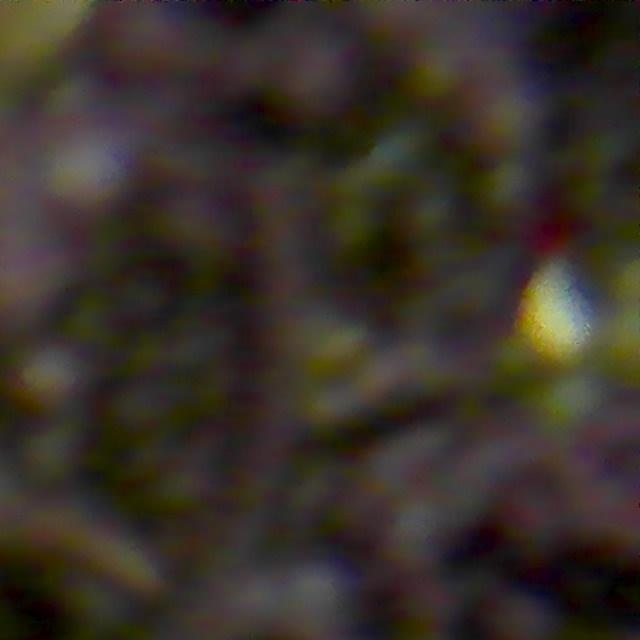SeaGrape: (540, 370, 606, 430), (492, 590, 557, 640)
